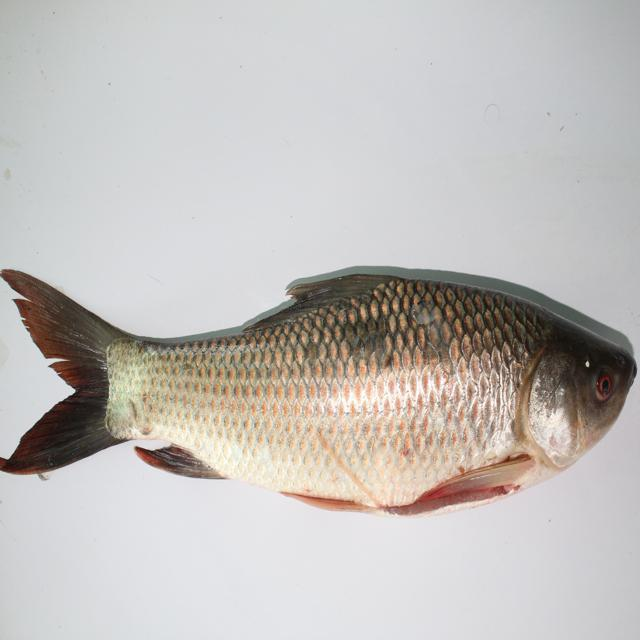Rohu: (3, 239, 640, 520)
